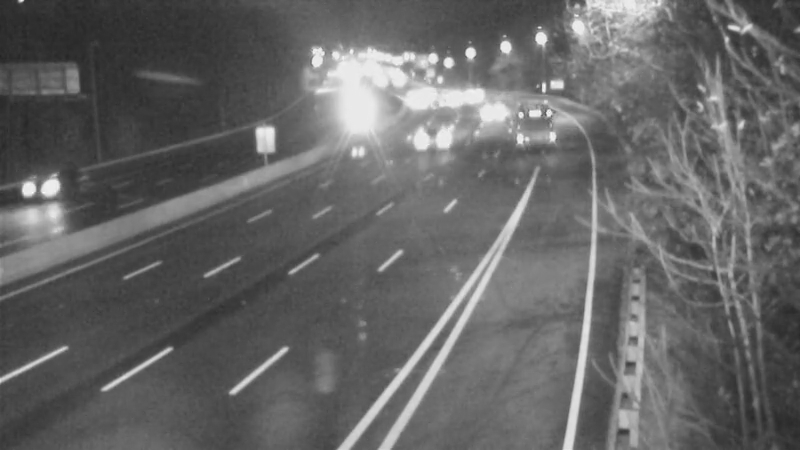vehicle: (2, 149, 82, 229), (390, 75, 440, 125), (465, 91, 515, 141), (503, 96, 553, 146), (404, 113, 454, 163), (330, 90, 380, 140)
